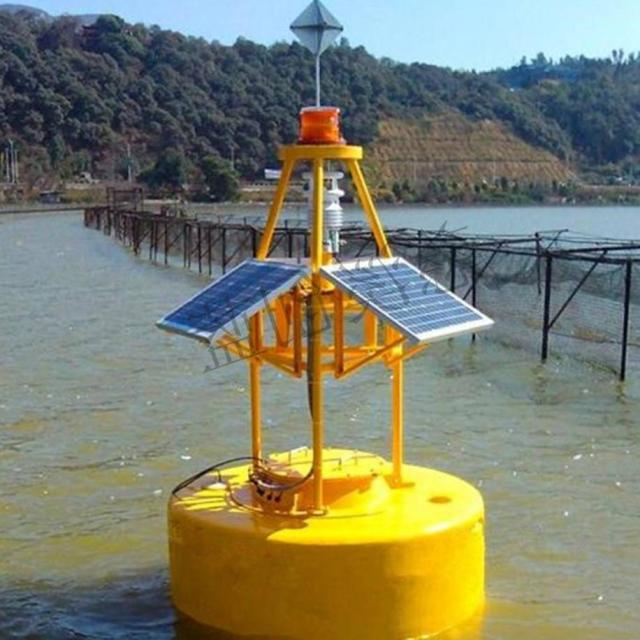buoy: (158, 0, 492, 638)
